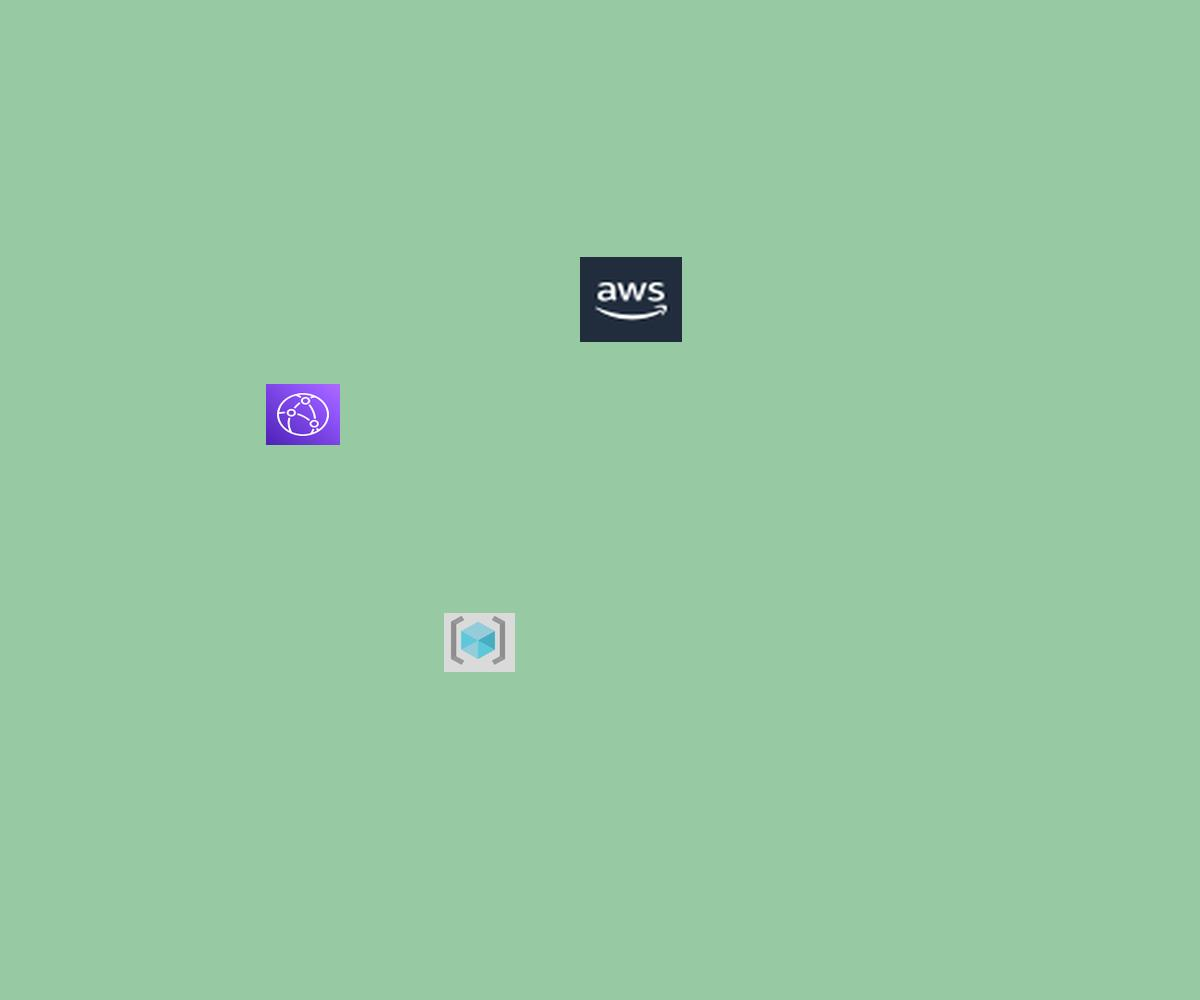AWS-Cloud-logo: (580, 257, 682, 342)
AWS-CloudFront: (266, 384, 340, 445)
Azure_resource_group: (444, 613, 515, 672)
